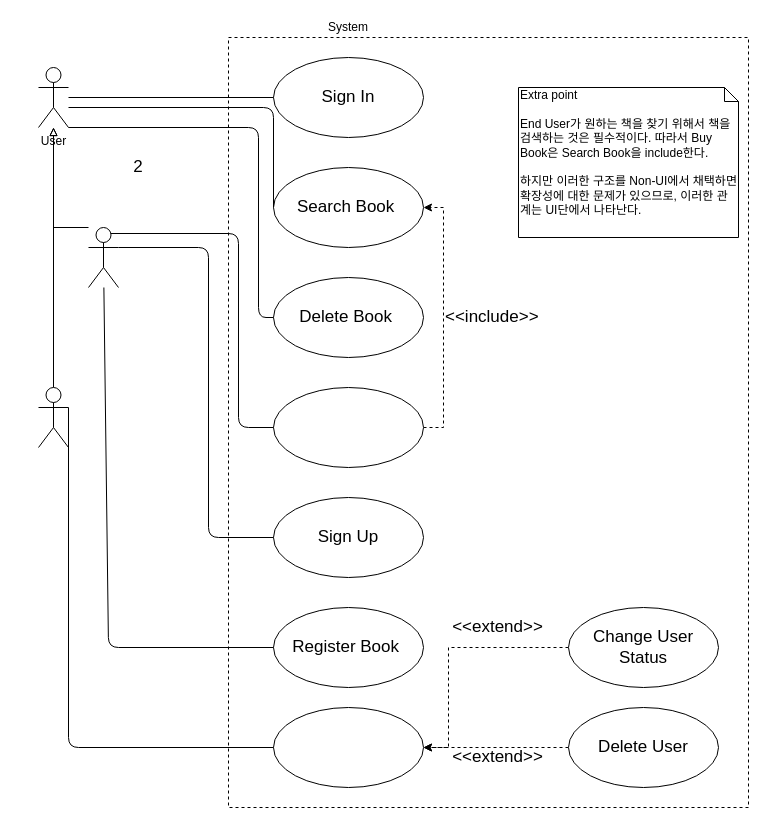
Some shapes in this 766 by 825 pixel diagram are drawn without their labels. The shapes that lost their labels are listed below. From the top down, each one's centre as x and y in pixels, then its label:
pixel 103 257: End User
pixel 53 417: Adminstration
pixel 348 427: Buy Book
pixel 348 747: Manage User
